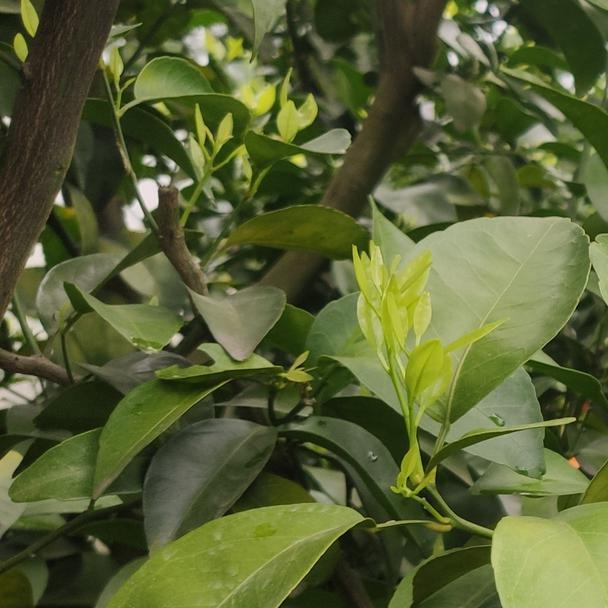shoot: (354, 247, 463, 435), (185, 114, 239, 216)
